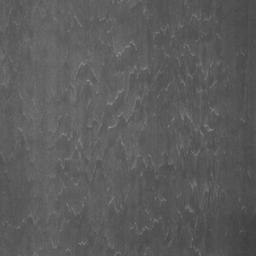Silk spot: (0, 0, 256, 256), (235, 0, 256, 26)
